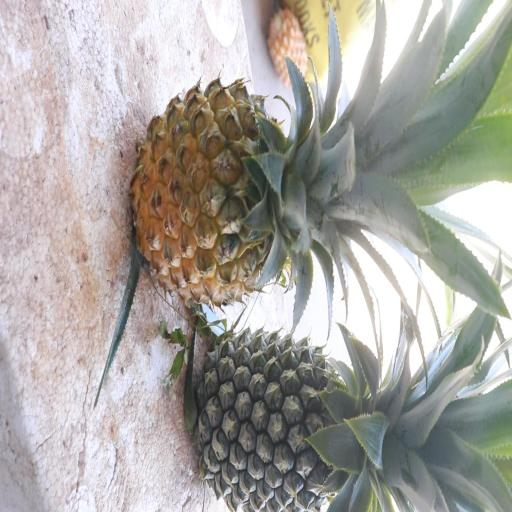Pineapple - v8 v1: (130, 73, 364, 316)
